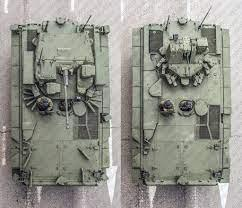tank: (130, 13, 234, 194), (8, 18, 114, 193)
